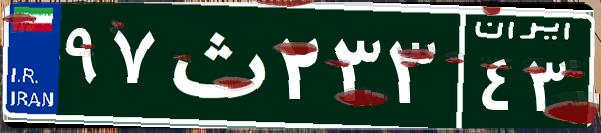2: (273, 28, 330, 110)
3: (385, 28, 445, 110), (330, 28, 385, 110), (525, 38, 570, 115)
4: (475, 38, 525, 113)
7: (110, 28, 158, 105)
9: (57, 26, 110, 107)
ث: (158, 15, 273, 115)
